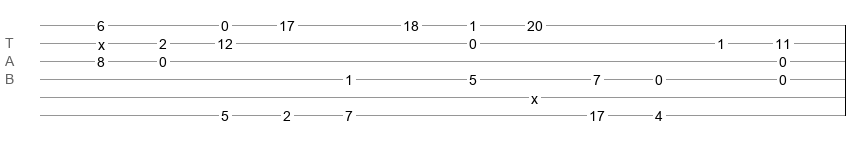0: (159, 54, 167, 64), (221, 18, 229, 28), (469, 36, 477, 46), (655, 72, 663, 82), (779, 54, 787, 64), (779, 72, 787, 82)
1: (345, 72, 353, 82), (469, 18, 477, 28), (717, 36, 725, 46)
11: (775, 36, 791, 46)
12: (217, 36, 233, 46)
17: (279, 18, 295, 28), (589, 108, 605, 118)
18: (403, 18, 419, 28)
2: (159, 36, 167, 46), (283, 108, 291, 118)
20: (527, 18, 543, 28)
4: (655, 108, 663, 118)
5: (221, 108, 229, 118), (469, 72, 477, 82)
6: (97, 18, 105, 28)
7: (345, 108, 353, 118), (593, 72, 601, 82)
8: (97, 54, 105, 64)
x: (98, 37, 105, 45), (531, 91, 538, 99)
